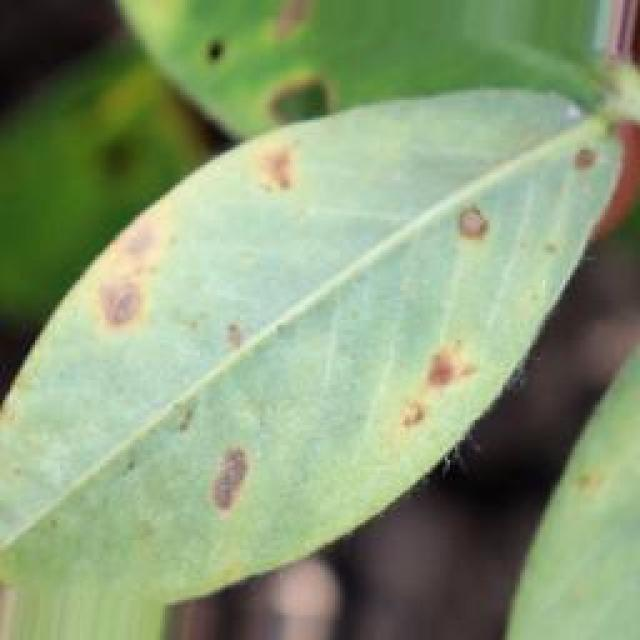Sigatoka: (58, 204, 188, 335), (366, 326, 492, 445), (235, 121, 345, 226), (201, 423, 288, 535), (409, 183, 496, 250), (548, 144, 610, 205), (201, 308, 254, 371)
